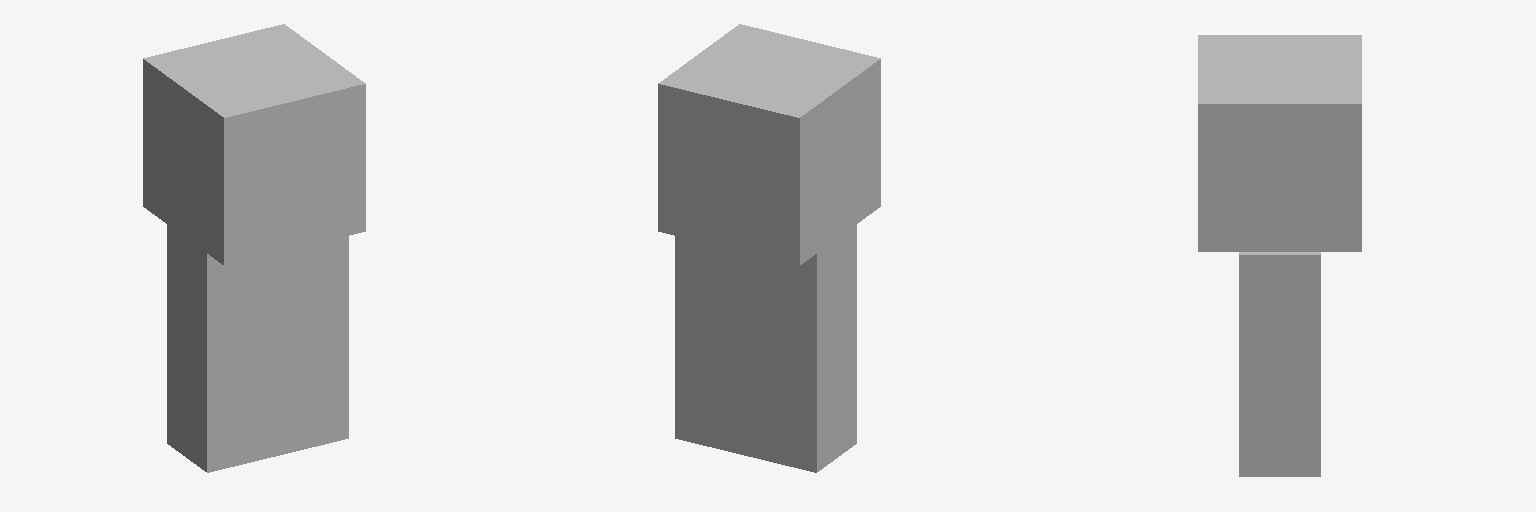
Rendered from FenixCaraTorso.obj.
3 views of the same model, side by side, from view 1: azimuth 30°, elevation 25°; view 2: azimuth 150°, elevation 25°; view 3: azimuth 270°, elevation 25° (orthographic).
Visible parts, largest first — view 1: cabeza, dorso; view 2: cabeza, dorso; view 3: cabeza, dorso.
Boxes of the visible parts, box(x1,y1,x2,y2) form: cabeza: box(143, 24, 365, 265); dorso: box(167, 224, 348, 472); cabeza: box(658, 24, 880, 265); dorso: box(675, 224, 856, 472); cabeza: box(1198, 35, 1361, 251); dorso: box(1239, 252, 1320, 476).
Bounding box in the file's own units: 0.5118 × 1.25 × 0.5.